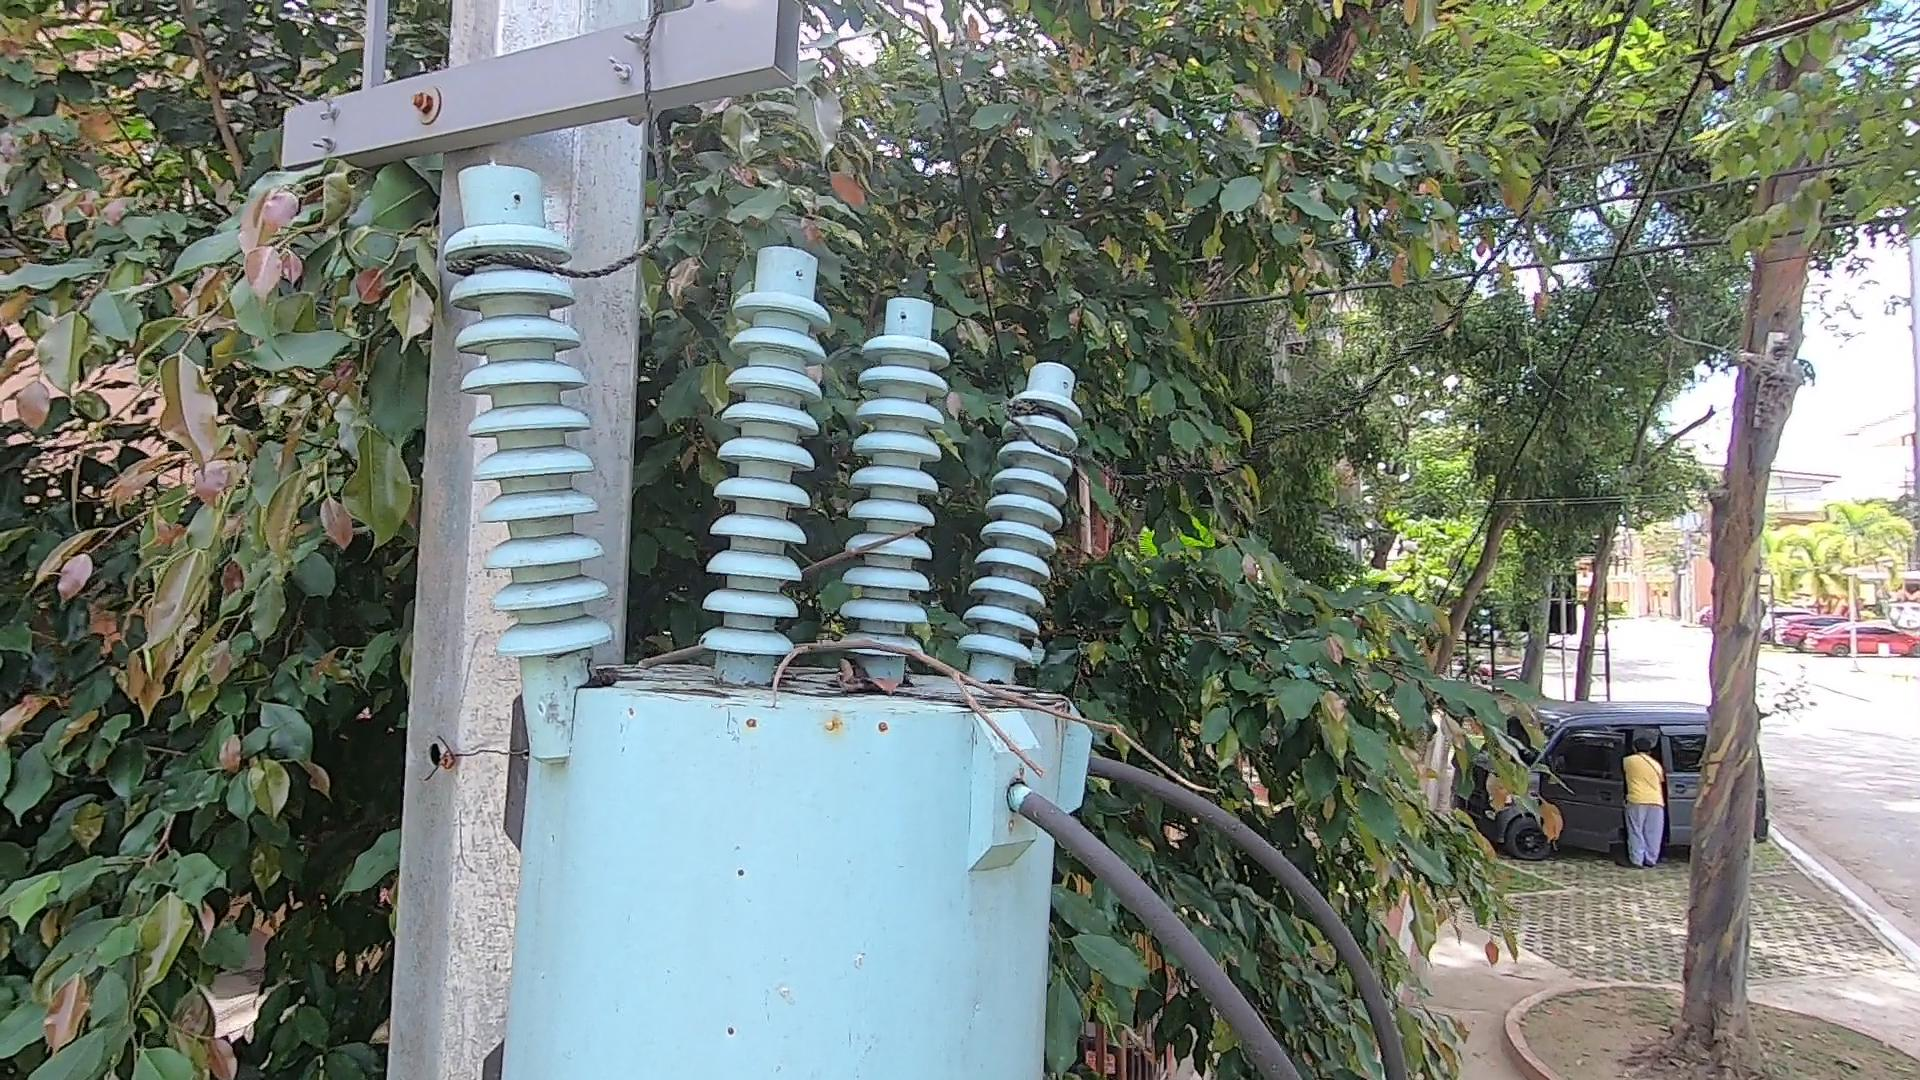leaf: (815, 650, 909, 719), (579, 655, 642, 712)
tree branch: (615, 618, 1226, 851)
